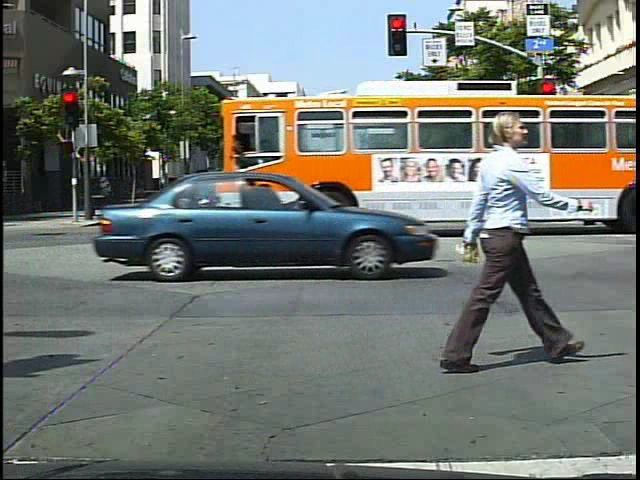person: (431, 94, 581, 397), (317, 164, 348, 228), (305, 166, 335, 230), (227, 166, 256, 232), (549, 160, 573, 211)
